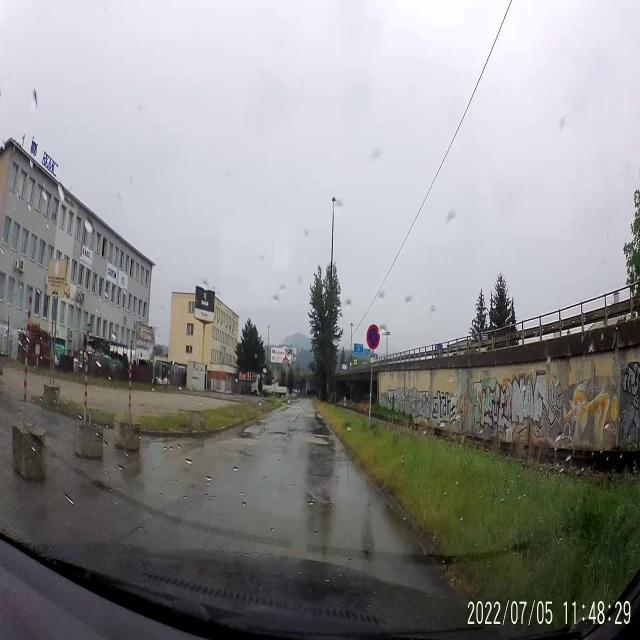Pothole: (268, 426, 290, 439)
